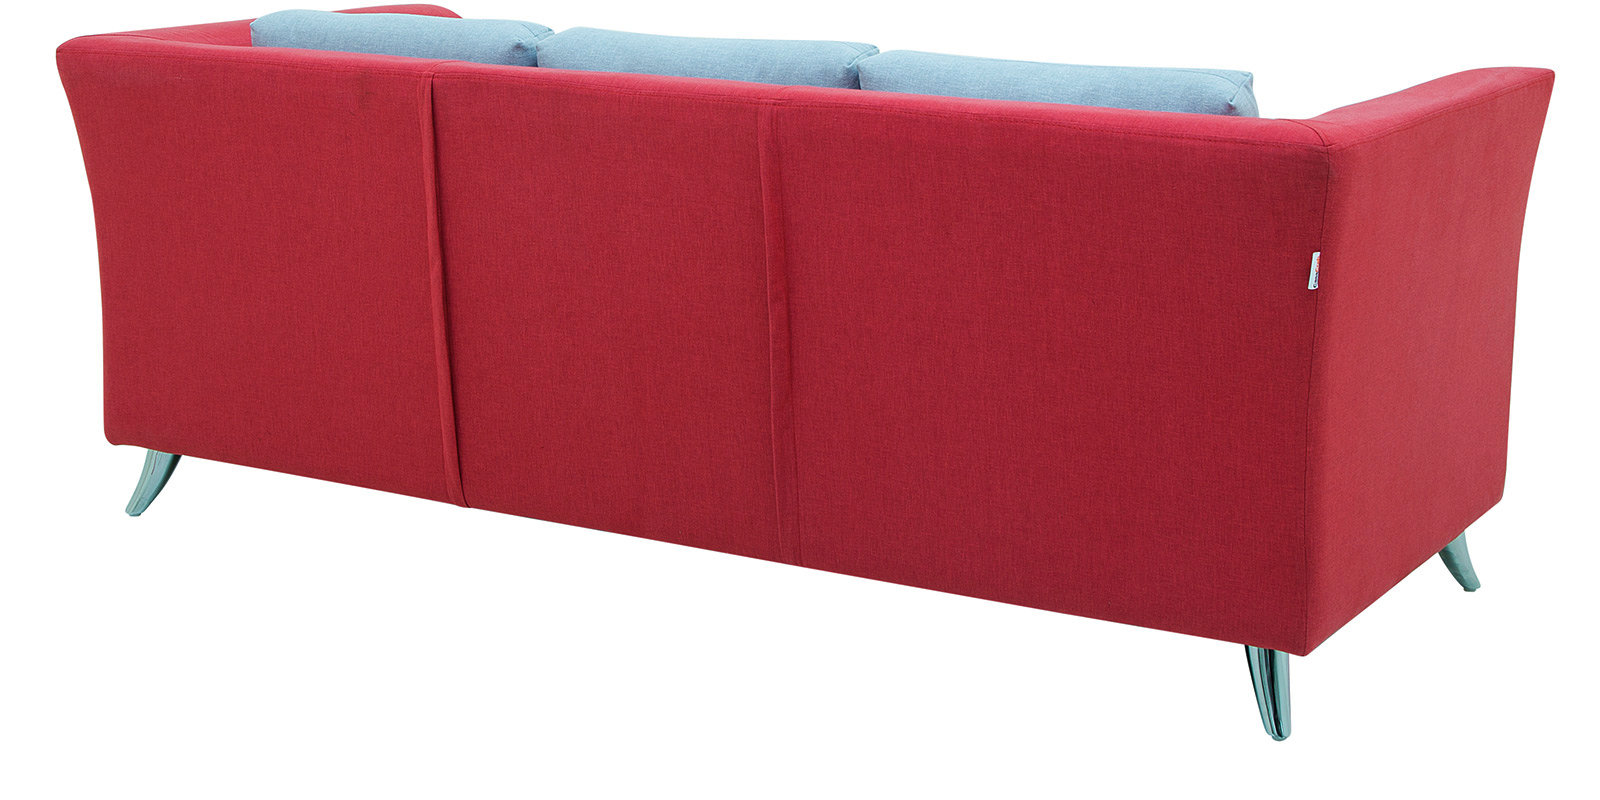Iowa Three Seater Sofa in Crimson Red Colour by Furnitech: (39, 5, 1563, 750)
